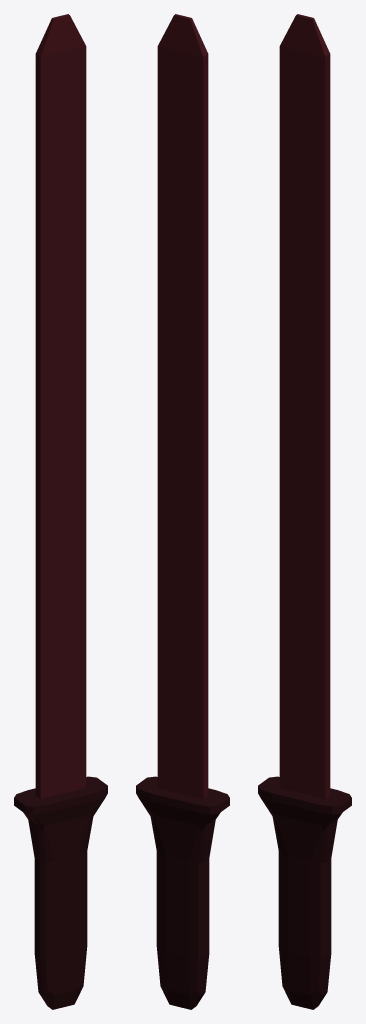
The model's file is WoodSword.fbx.
3 views of the same model, side by side, from view 1: azimuth 30°, elevation 25°; view 2: azimuth 150°, elevation 25°; view 3: azimuth 330°, elevation 25° (orthographic).
Visible parts, largest first — view 1: WoodSword; view 2: WoodSword; view 3: WoodSword.
Part boxes in pixels (x1,y1,x2,y2): WoodSword: (14, 14, 107, 1009); WoodSword: (136, 14, 229, 1009); WoodSword: (258, 14, 351, 1009).
Bounding box in the file's own units: 66.46 × 758 × 27.3.
